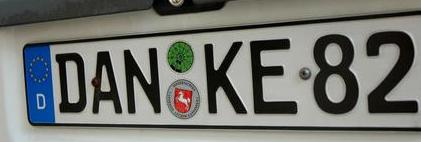2: (364, 25, 420, 113)
8: (309, 30, 362, 117)
A: (91, 47, 123, 117)
D: (54, 49, 89, 115)
E: (248, 36, 300, 116)
K: (202, 40, 249, 117)
N: (122, 46, 164, 115)
